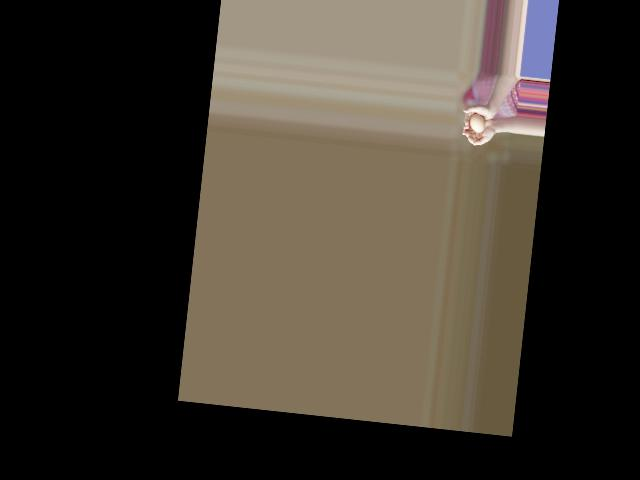egg: (468, 112, 485, 132)
